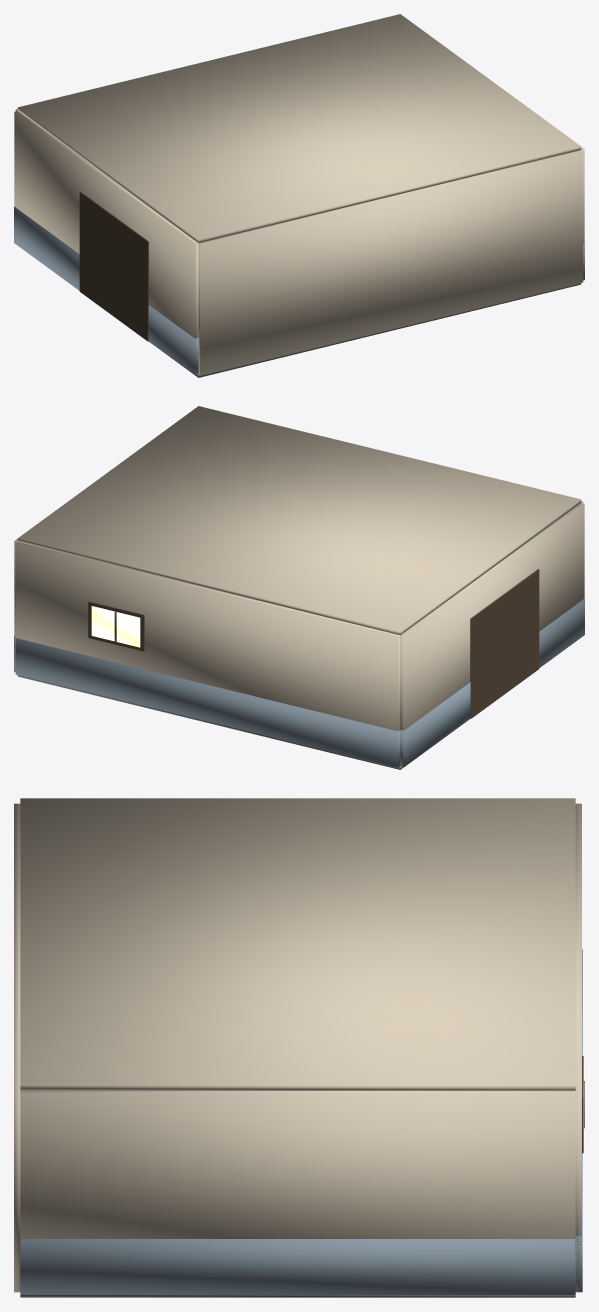
File: garage.glb
The picture shows the model from 3 angles, top to bottom: view 1: azimuth 30°, elevation 25°; view 2: azimuth 150°, elevation 25°; view 3: azimuth 270°, elevation 25°; orthographic projection. The views are drawn at different scales.
Visible parts, largest first — view 1: Ceiling, FrontWall, SideWall, DoorFrame, SideWainscot, Floor; view 2: Ceiling, BackWall, BackWainscot, SideWall, DoorFrame, SideWainscot, WindowGlow, Floor, WindowFrame; view 3: Ceiling, SideWall.001, SideWainscot.001, FrontWall, BackWall, Floor.
Part boxes in pixels (x1=…): Ceiling: x1=17, y1=14, x2=581, y2=243; FrontWall: x1=198, y1=150, x2=583, y2=375; SideWall: x1=14, y1=111, x2=198, y2=373; DoorFrame: x1=79, y1=191, x2=148, y2=341; SideWainscot: x1=14, y1=206, x2=198, y2=374; Floor: x1=195, y1=283, x2=581, y2=377; Ceiling: x1=17, y1=406, x2=581, y2=635; BackWall: x1=15, y1=542, x2=400, y2=731; BackWainscot: x1=15, y1=638, x2=400, y2=767; SideWall: x1=400, y1=503, x2=584, y2=765; DoorFrame: x1=470, y1=569, x2=539, y2=718; SideWainscot: x1=400, y1=598, x2=584, y2=766; WindowGlow: x1=91, y1=606, x2=140, y2=647; Floor: x1=17, y1=675, x2=403, y2=769; WindowFrame: x1=88, y1=601, x2=144, y2=651; Ceiling: x1=20, y1=798, x2=575, y2=1090; SideWall.001: x1=20, y1=1090, x2=575, y2=1238; SideWainscot.001: x1=20, y1=1239, x2=575, y2=1294; FrontWall: x1=14, y1=803, x2=20, y2=1292; BackWall: x1=575, y1=803, x2=581, y2=1291; Floor: x1=20, y1=1295, x2=575, y2=1297.
Bounding box in the file's own units: 11.24 × 3.8 × 9.25.
